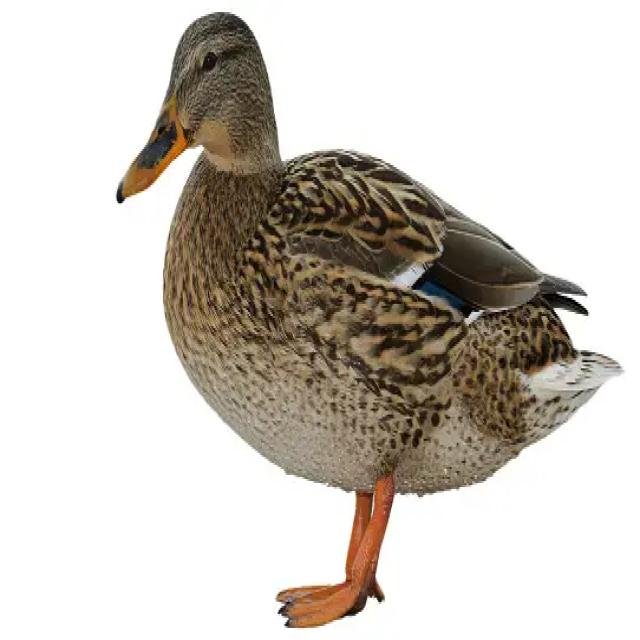ducks: (97, 9, 632, 631)
